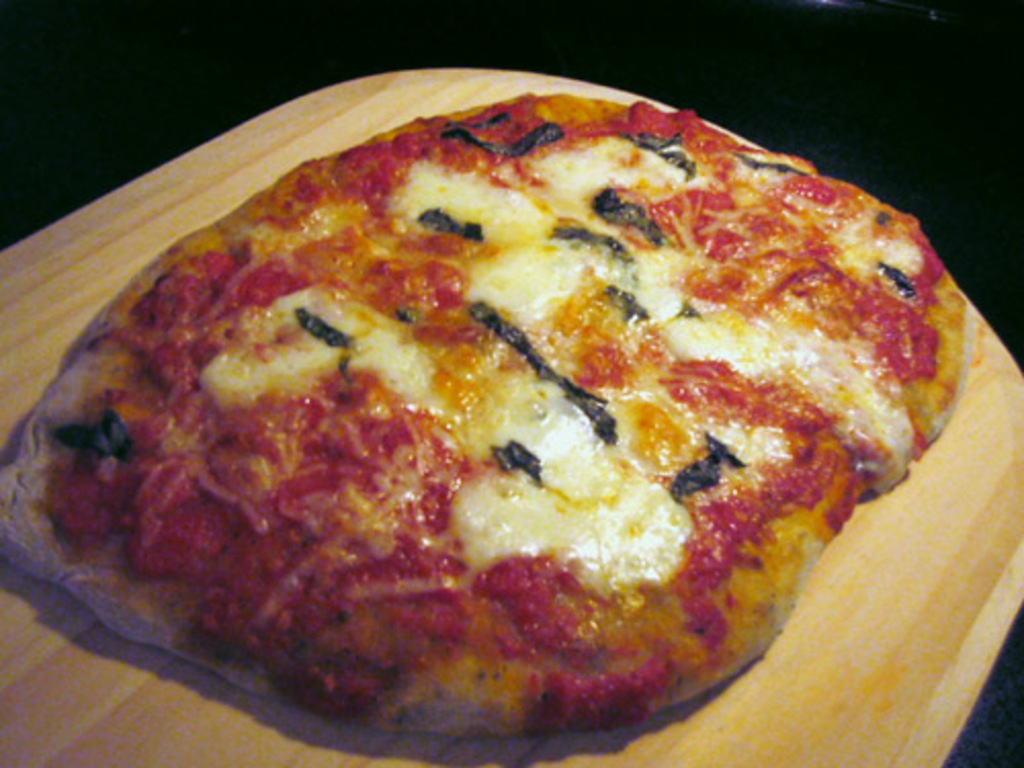Pizza: (0, 61, 1021, 765)
